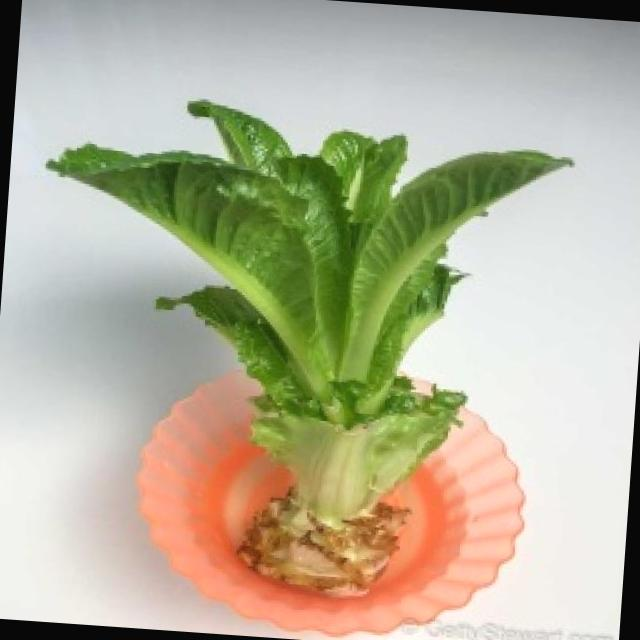Lettuce-Ready-to-Harvest: (48, 100, 571, 531)
